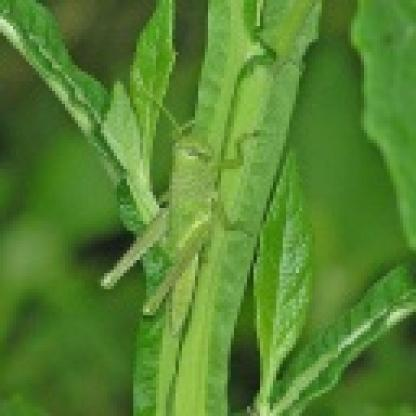grasshopper: (104, 94, 267, 315)
